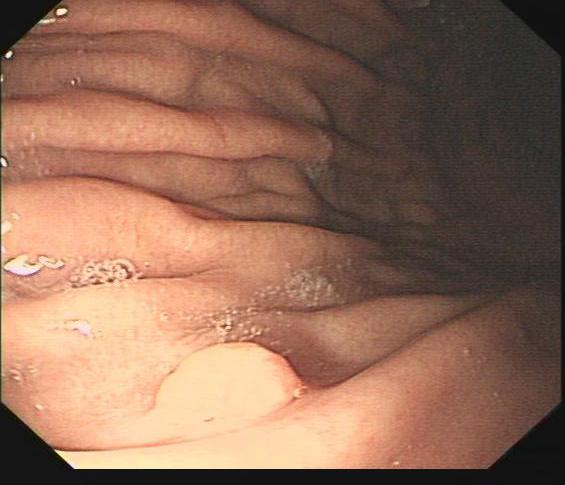Polyp: (121, 312, 318, 466)
